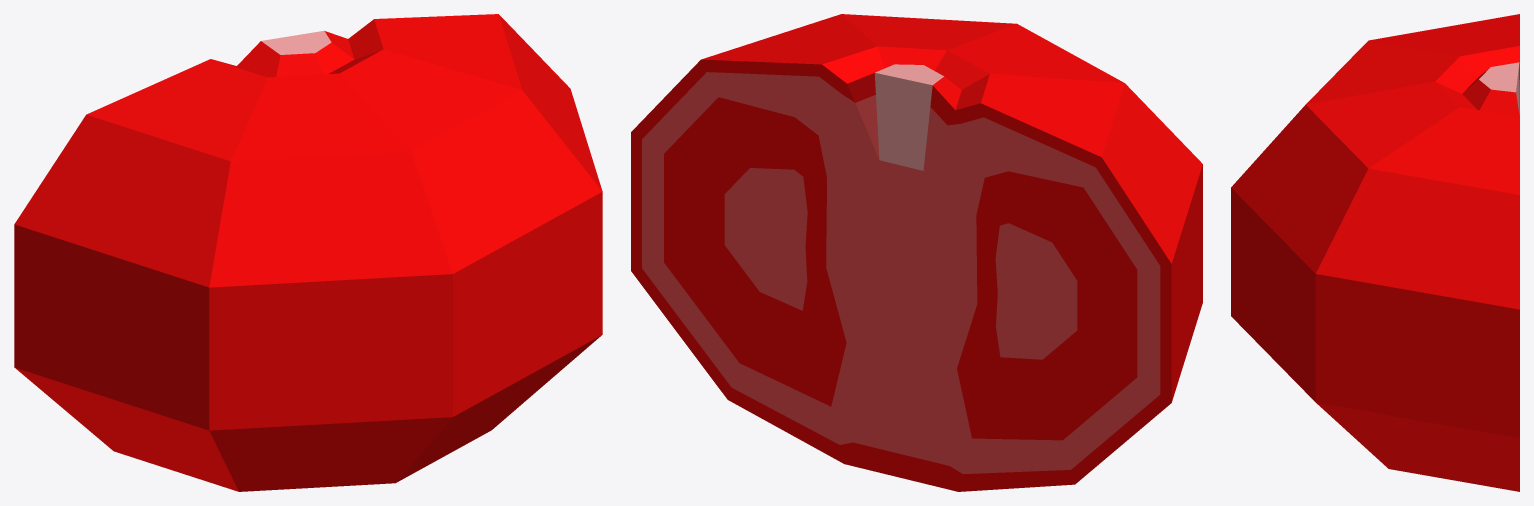
The model's file is tomato02.gltf.
3 views of the same model, side by side, from view 1: azimuth 30°, elevation 25°; view 2: azimuth 150°, elevation 25°; view 3: azimuth 270°, elevation 25° (orthographic). The views are drawn at different scales.
Parts seen in each view (by area): view 1: Cylinder; view 2: Cylinder; view 3: Cylinder.
Part boxes in pixels (box(x1,y1,x2,y2)): Cylinder: box(14, 14, 602, 491); Cylinder: box(631, 14, 1202, 491); Cylinder: box(1231, 14, 1519, 491).
Size of the model in its own units: 0.0472 by 0.0334 by 0.0236.
1 material, 1 textured.
